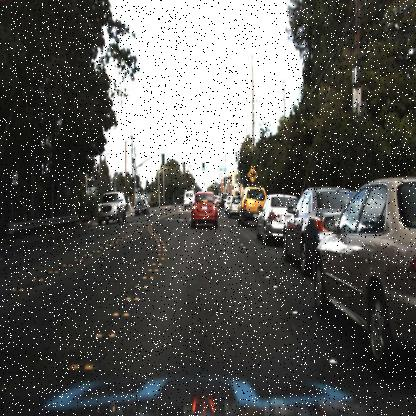car: (314, 172, 416, 370), (279, 180, 314, 276), (255, 188, 283, 250), (186, 182, 220, 232), (94, 190, 128, 228), (237, 181, 261, 230), (134, 196, 150, 218), (228, 190, 239, 222), (218, 192, 230, 214)
trafficLight-Green: (201, 156, 207, 177)
trafficLight-Red: (183, 166, 190, 182)
